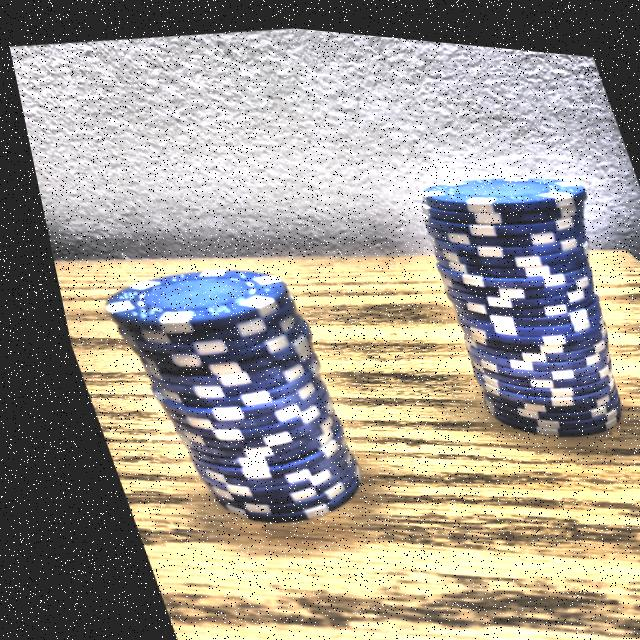Chip: (62, 228, 383, 558), (385, 130, 640, 459)
